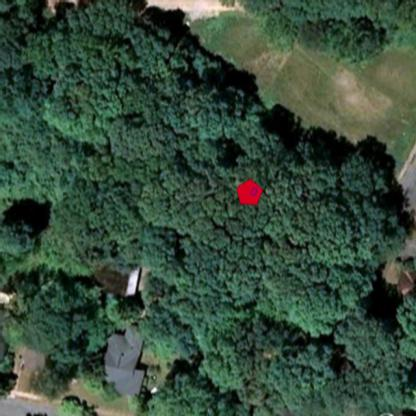D: (250, 185, 258, 197)
pentagon: (237, 178, 263, 206)
